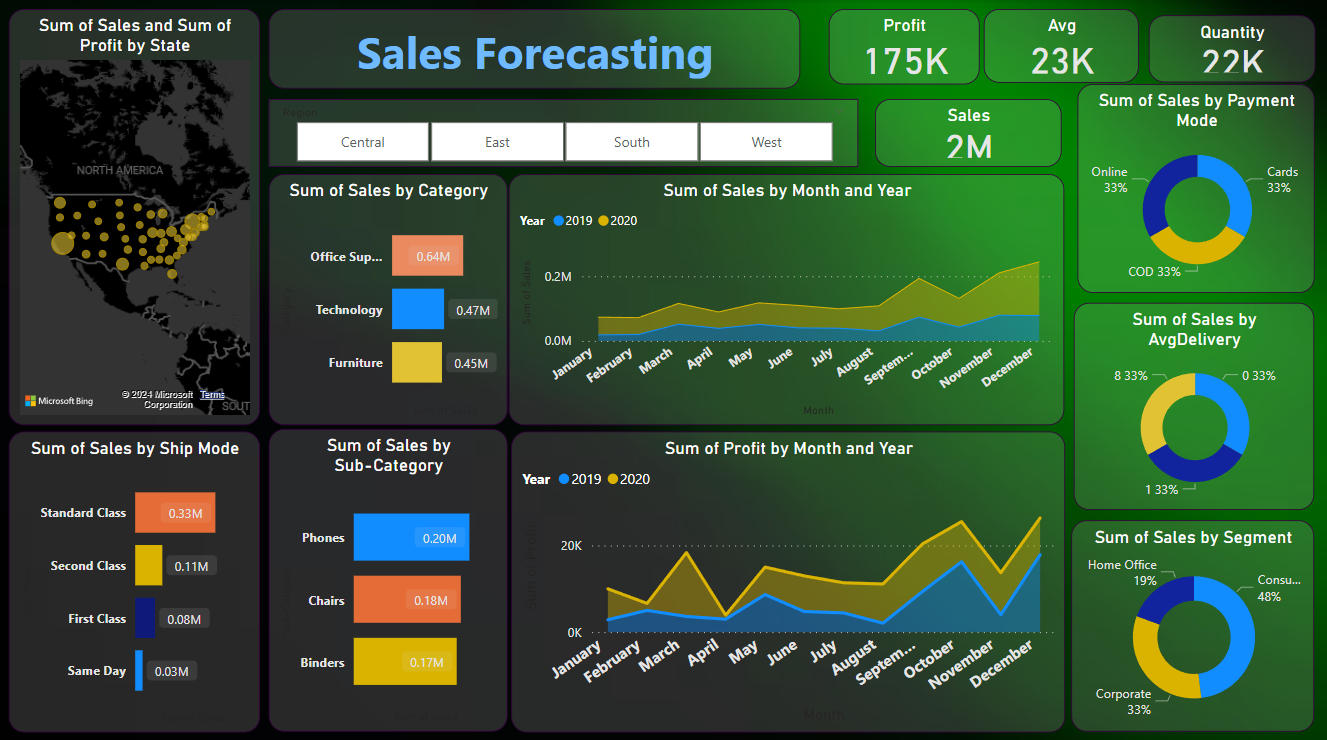

What the dashboard file says about the page in this screenshot:
{"tool":"powerbi","page":{"name":"Page 1","canvas":[1280,720],"ordinal":0},"visuals":[{"type":"stackedAreaChart","fields":{"Series":["Sheet1 (2).Order Date.Variation.Date Hierarchy.Year"],"Category":["Sheet1 (2).Order Date.Variation.Date Hierarchy.Month","Sheet1 (2).Order Date.Variation.Date Hierarchy.Day"],"Y":["Sum(Sheet1 (2).Profit)"]},"box":[493.3,417.3,534.3,290.7],"z":0},{"type":"stackedAreaChart","fields":{"Y":["Sum(Sheet1 (2).Sales)"],"Series":["Sheet1 (2).Order Date.Variation.Date Hierarchy.Year"],"Category":["Sheet1 (2).Order Date.Variation.Date Hierarchy.Month","Sheet1 (2).Order Date.Variation.Date Hierarchy.Day"]},"box":[490.8,168.6,536.1,242.7],"z":1000},{"type":"donutChart","fields":{"Category":["Sheet1.Payment Mode"],"Y":["Sum(Sheet1 (2).Sales)"]},"box":[1039.3,82.3,229,201.5],"z":2000},{"type":"donutChart","fields":{"Category":["Sheet1 (2).Segment"],"Y":["Sum(Sheet1 (2).Sales)"]},"box":[1033.8,503.2,234.4,204.3],"z":3000},{"type":"card","title":"Avg","fields":{"Values":["Sum(Sheet1.AvgDelivery)"]},"box":[948.8,9.6,149.4,71.3],"z":4000},{"type":"card","title":"Profit","fields":{"Values":["Sum(Sheet1 (2).Profit)"]},"box":[799.3,9.6,145.3,72.7],"z":5000},{"type":"card","title":"Quantity","fields":{"Values":["Sum(Sheet1 (2).Quantity)"]},"box":[1107.4,9.6,160.5,70],"z":6000},{"type":"card","title":"Sales","fields":{"Values":["Sum(Sheet1 (2).Sales)"]},"box":[844.6,96,179.6,65.8],"z":7000},{"type":"clusteredBarChart","fields":{"Y":["Sum(Sheet1 (2).Sales)"],"Category":["Sheet1 (2).Ship Mode"]},"box":[8.4,417.3,242.4,290.7],"z":8000},{"type":"clusteredBarChart","fields":{"Category":["Sheet1 (2).Category"],"Y":["Sum(Sheet1 (2).Sales)"]},"box":[259.1,168.6,230.3,242.7],"z":9000},{"type":"clusteredBarChart","fields":{"Y":["Sum(Sheet1 (2).Sales)"],"Category":["Sheet1 (2).Sub-Category"]},"box":[259.1,415.4,230.3,292],"z":10000},{"type":"map","fields":{"Category":["Sheet1 (2).State"],"Size":["Sum(Sheet1 (2).Sales)"]},"box":[8.4,9.6,242.4,401.6],"z":11000},{"type":"slicer","fields":{"Values":["Sheet1 (2).Region"]},"box":[259.1,96,569,65.8],"z":12000},{"type":"textbox","box":[259.1,9.6,512.8,76.8],"z":13000},{"type":"donutChart","fields":{"Category":["Sheet1.AvgDelivery"],"Y":["Sum(Sheet1 (2).Sales)"]},"box":[1036.5,293.4,231.7,200.2],"z":14000}]}

Visuals, with their boxes in screenshot pixels (x1, y1, x2, y2), scaled from the page's 1280x720 canvas onto the 1327x740 screenshot:
stackedAreaChart - Sheet1 (2).Order Date.Variation.Date Hierarchy.Year x Sheet1 (2).Order Date.Variation.Date Hierarchy.Month: bbox=[511, 429, 1065, 728]
stackedAreaChart - Sum(Sheet1 (2).Sales) x Sheet1 (2).Order Date.Variation.Date Hierarchy.Year: bbox=[509, 173, 1065, 423]
donutChart - Sheet1.Payment Mode x Sum(Sheet1 (2).Sales): bbox=[1077, 85, 1315, 292]
donutChart - Sheet1 (2).Segment x Sum(Sheet1 (2).Sales): bbox=[1072, 517, 1315, 727]
"Avg" card: bbox=[984, 10, 1139, 83]
"Profit" card: bbox=[829, 10, 979, 85]
"Quantity" card: bbox=[1148, 10, 1314, 82]
"Sales" card: bbox=[876, 99, 1062, 166]
clusteredBarChart - Sum(Sheet1 (2).Sales) x Sheet1 (2).Ship Mode: bbox=[9, 429, 260, 728]
clusteredBarChart - Sheet1 (2).Category x Sum(Sheet1 (2).Sales): bbox=[269, 173, 507, 423]
clusteredBarChart - Sum(Sheet1 (2).Sales) x Sheet1 (2).Sub-Category: bbox=[269, 427, 507, 727]
map - Sheet1 (2).State x Sum(Sheet1 (2).Sales): bbox=[9, 10, 260, 423]
slicer - Sheet1 (2).Region: bbox=[269, 99, 859, 166]
textbox: bbox=[269, 10, 800, 89]
donutChart - Sheet1.AvgDelivery x Sum(Sheet1 (2).Sales): bbox=[1075, 302, 1315, 507]
